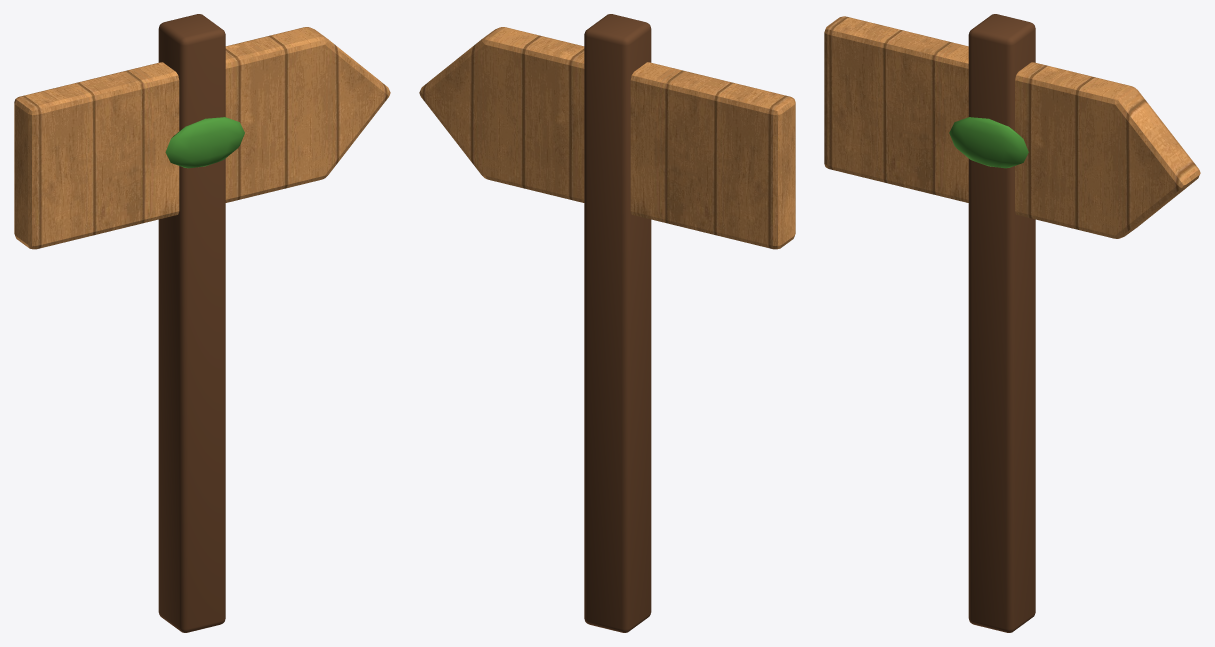
The model's file is sign_post_forest.glb.
3 views of the same model, side by side, from view 1: azimuth 30°, elevation 25°; view 2: azimuth 150°, elevation 25°; view 3: azimuth 330°, elevation 25° (orthographic).
Parts seen in each view (by area): view 1: sign_post_forest; view 2: sign_post_forest; view 3: sign_post_forest.
Part boxes in pixels (x1,y1,x2,y2): sign_post_forest: [14, 14, 390, 632]; sign_post_forest: [419, 14, 795, 632]; sign_post_forest: [824, 14, 1200, 632].
Size of the model in its own units: 0.6359 by 1 by 0.095.
3 materials, 1 textured.
